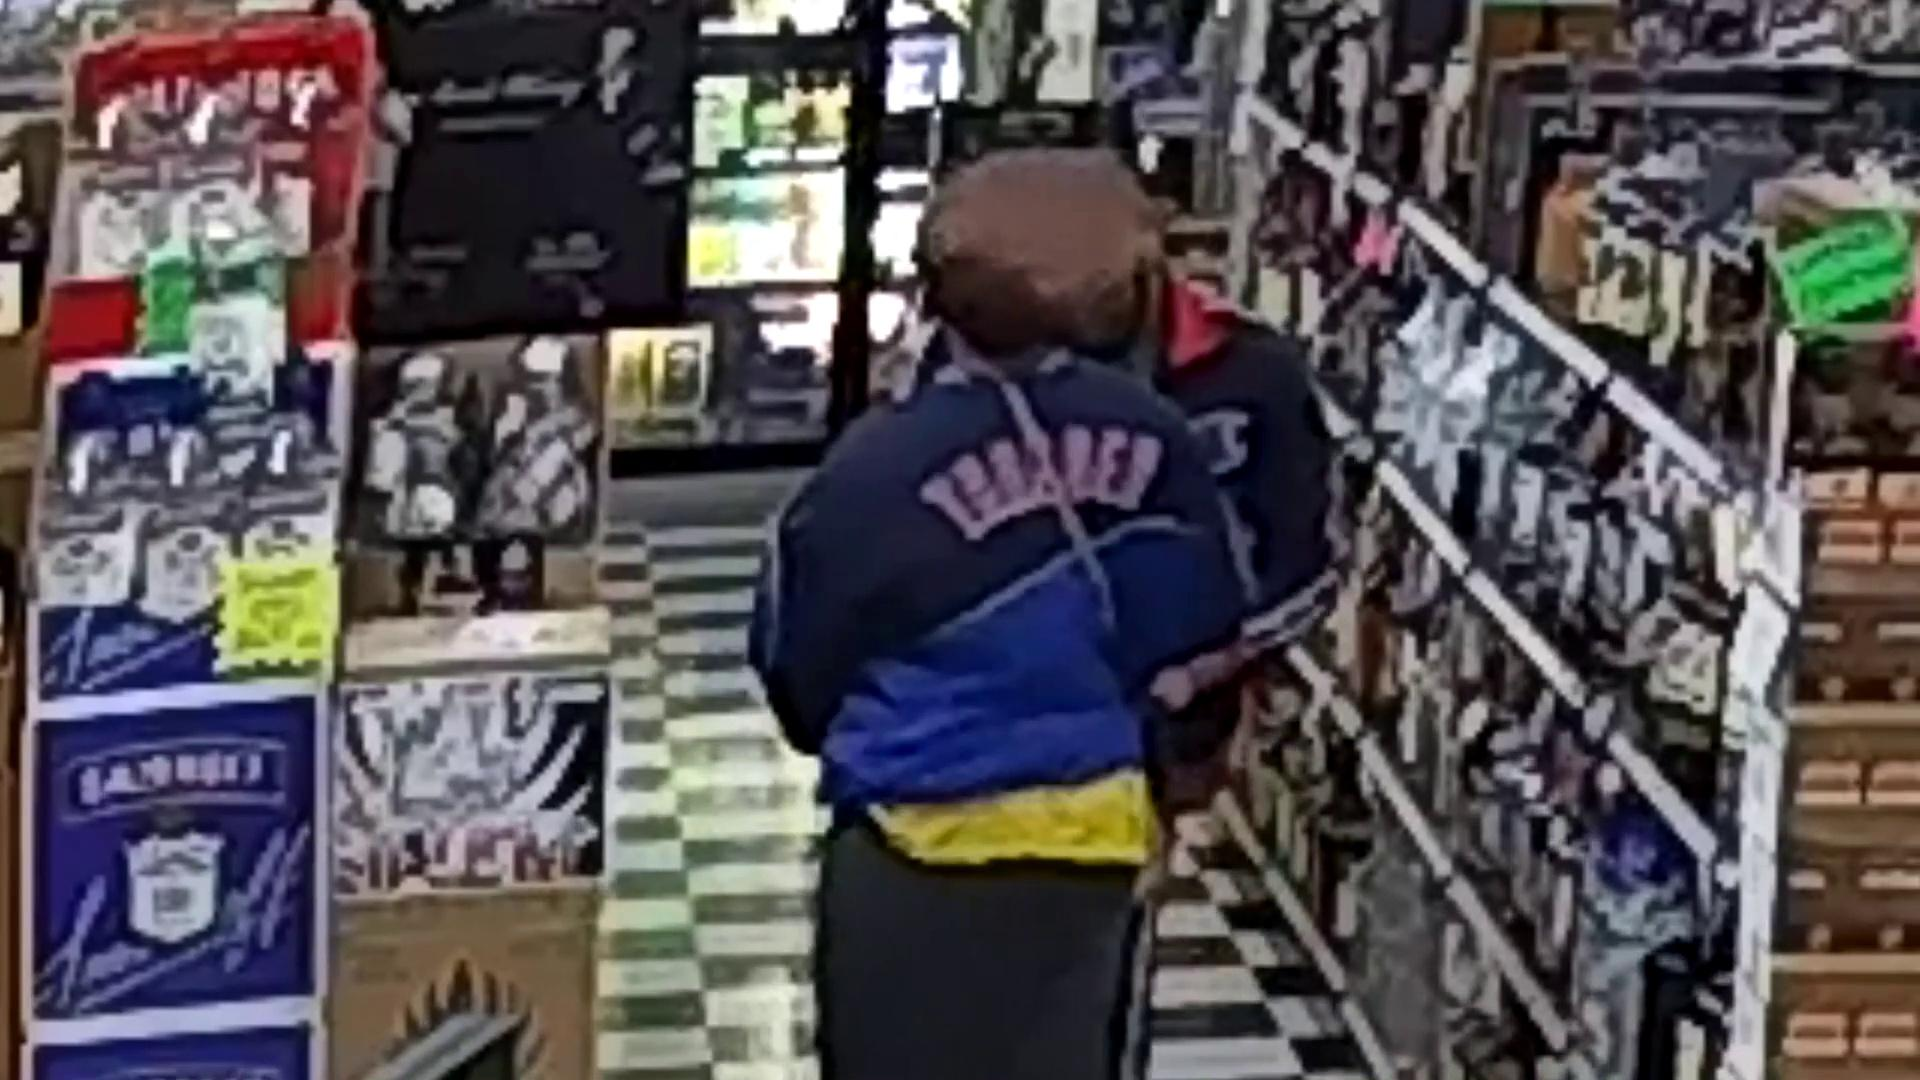Regular: (729, 125, 1238, 1080), (1164, 251, 1337, 634)
